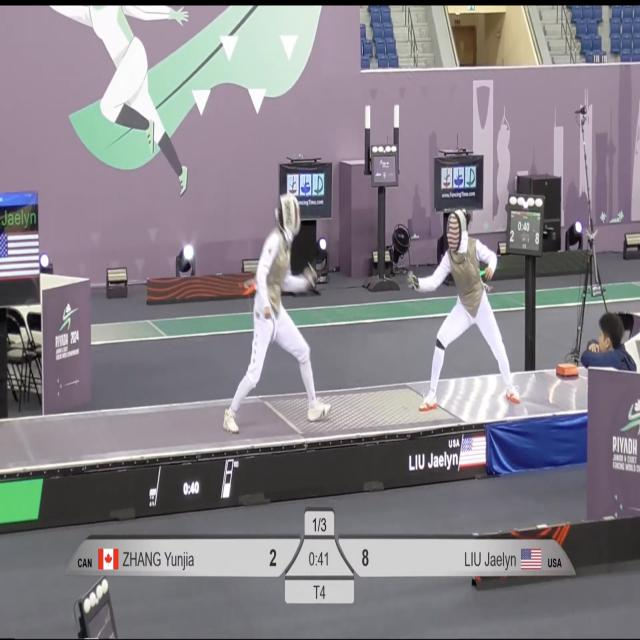fencer: (210, 181, 336, 434), (400, 199, 524, 413)
overlayLeft: (63, 532, 263, 579)
overlayRight: (381, 539, 578, 576)
scoreLeft: (265, 535, 303, 575)
scoreRight: (333, 538, 377, 575)
